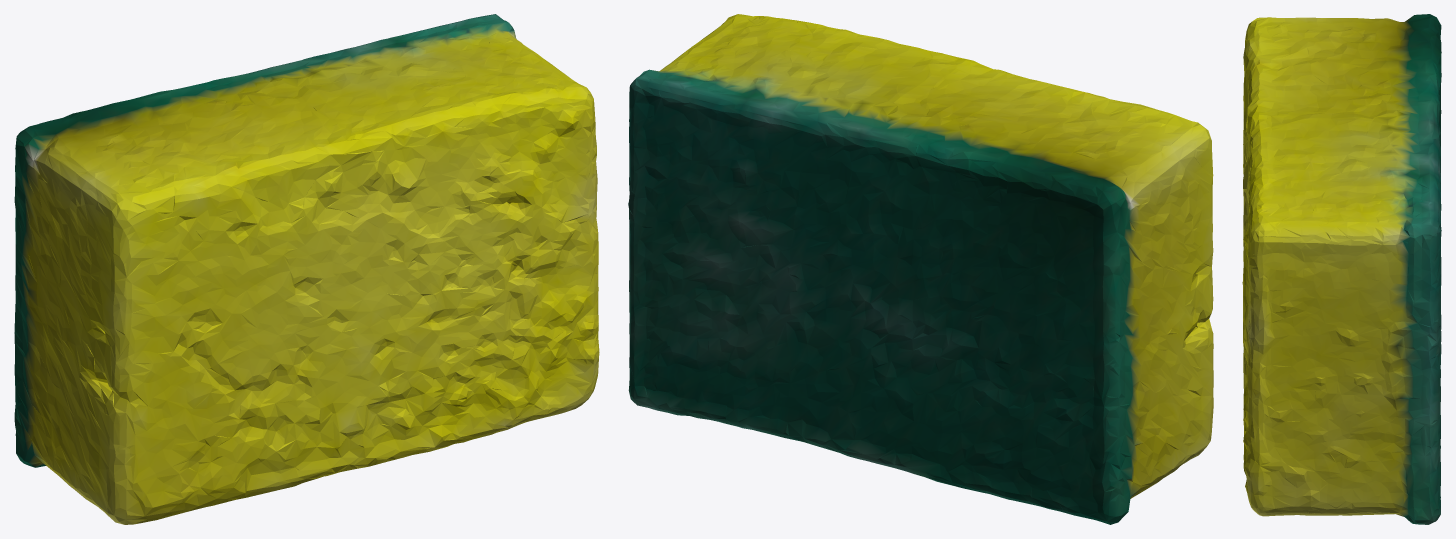
The model's file is sponge_1.glb.
The picture shows the model from 3 angles, left to right: view 1: azimuth 30°, elevation 25°; view 2: azimuth 150°, elevation 25°; view 3: azimuth 270°, elevation 25°; orthographic projection. The views are drawn at different scales.
Parts seen in each view (by area): view 1: geometry_0; view 2: geometry_0; view 3: geometry_0.
Boxes of the visible parts, bbox=[...] form: geometry_0: bbox=[14, 14, 599, 524]; geometry_0: bbox=[628, 14, 1213, 524]; geometry_0: bbox=[1242, 14, 1441, 524].
Size of the model in its own units: 1 by 0.663 by 0.3828.
